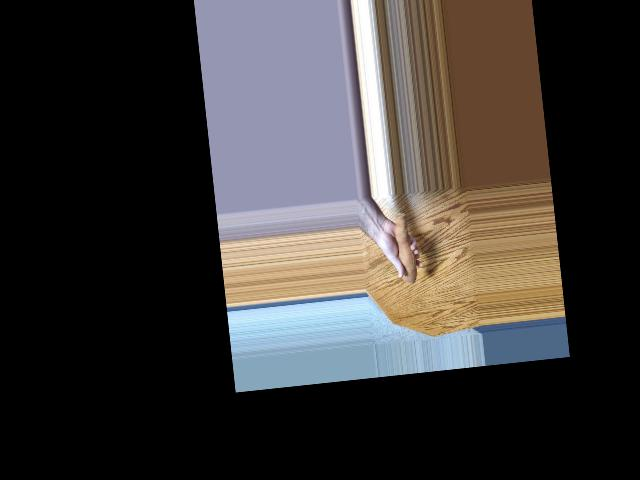sweet_potato: (384, 209, 420, 291)
